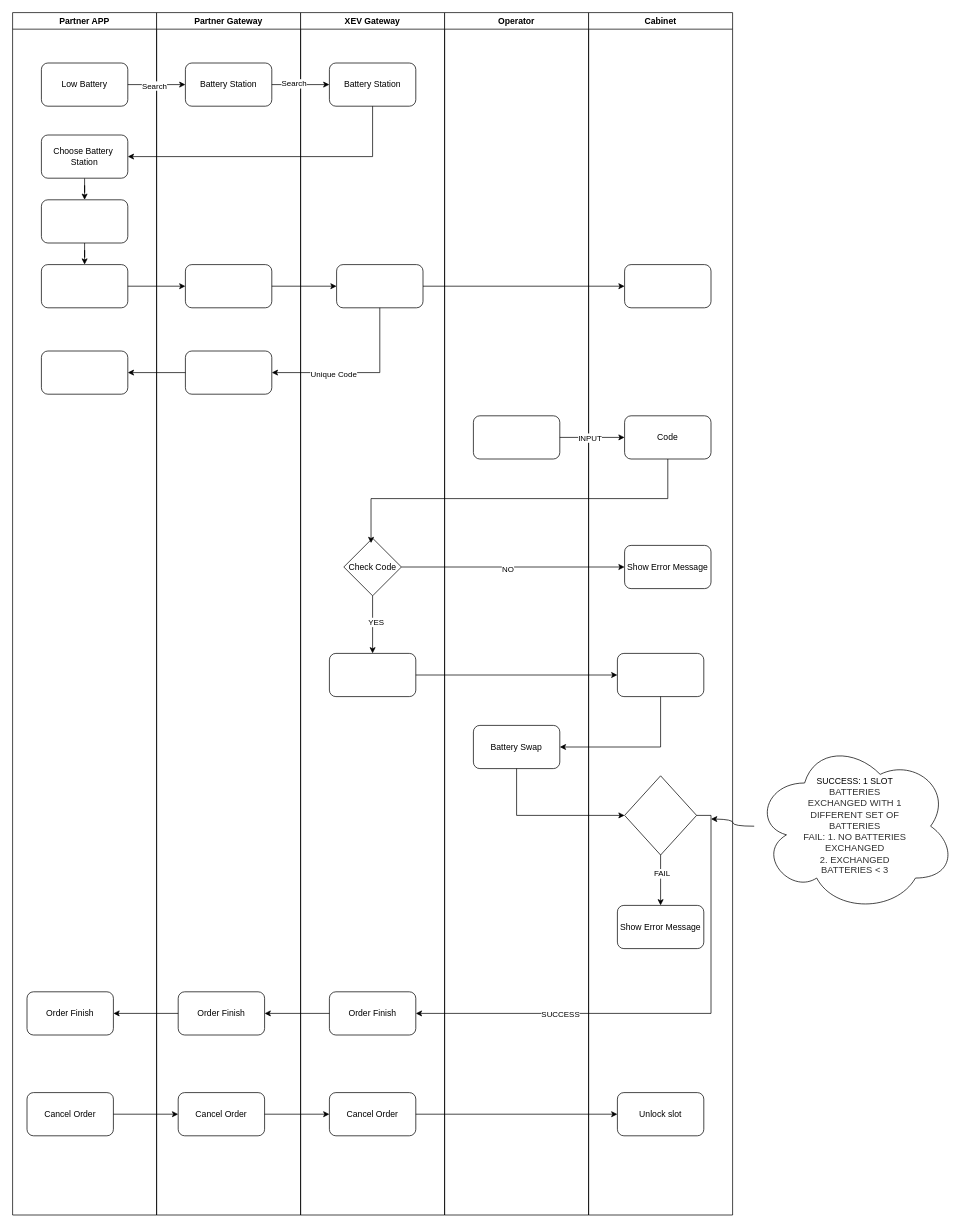
Some shapes in this 968 by 1228 pixel diagram are drawn without their labels. The centre of each missing label's shape, as x and y in pixels:
Battery Swap Status: (x=660, y=815)
Book: (x=84, y=221)
Booked slot unlock and opened: (x=660, y=675)
Create New Order: (x=379, y=286)
Lock slot: (x=667, y=286)
Order Swaapping: (x=372, y=675)
Pay: (x=84, y=286)
Payment Order: (x=228, y=286)
Receive Code: (x=516, y=437)
Save Code To Order: (x=228, y=372)
Show Code: (x=84, y=372)
